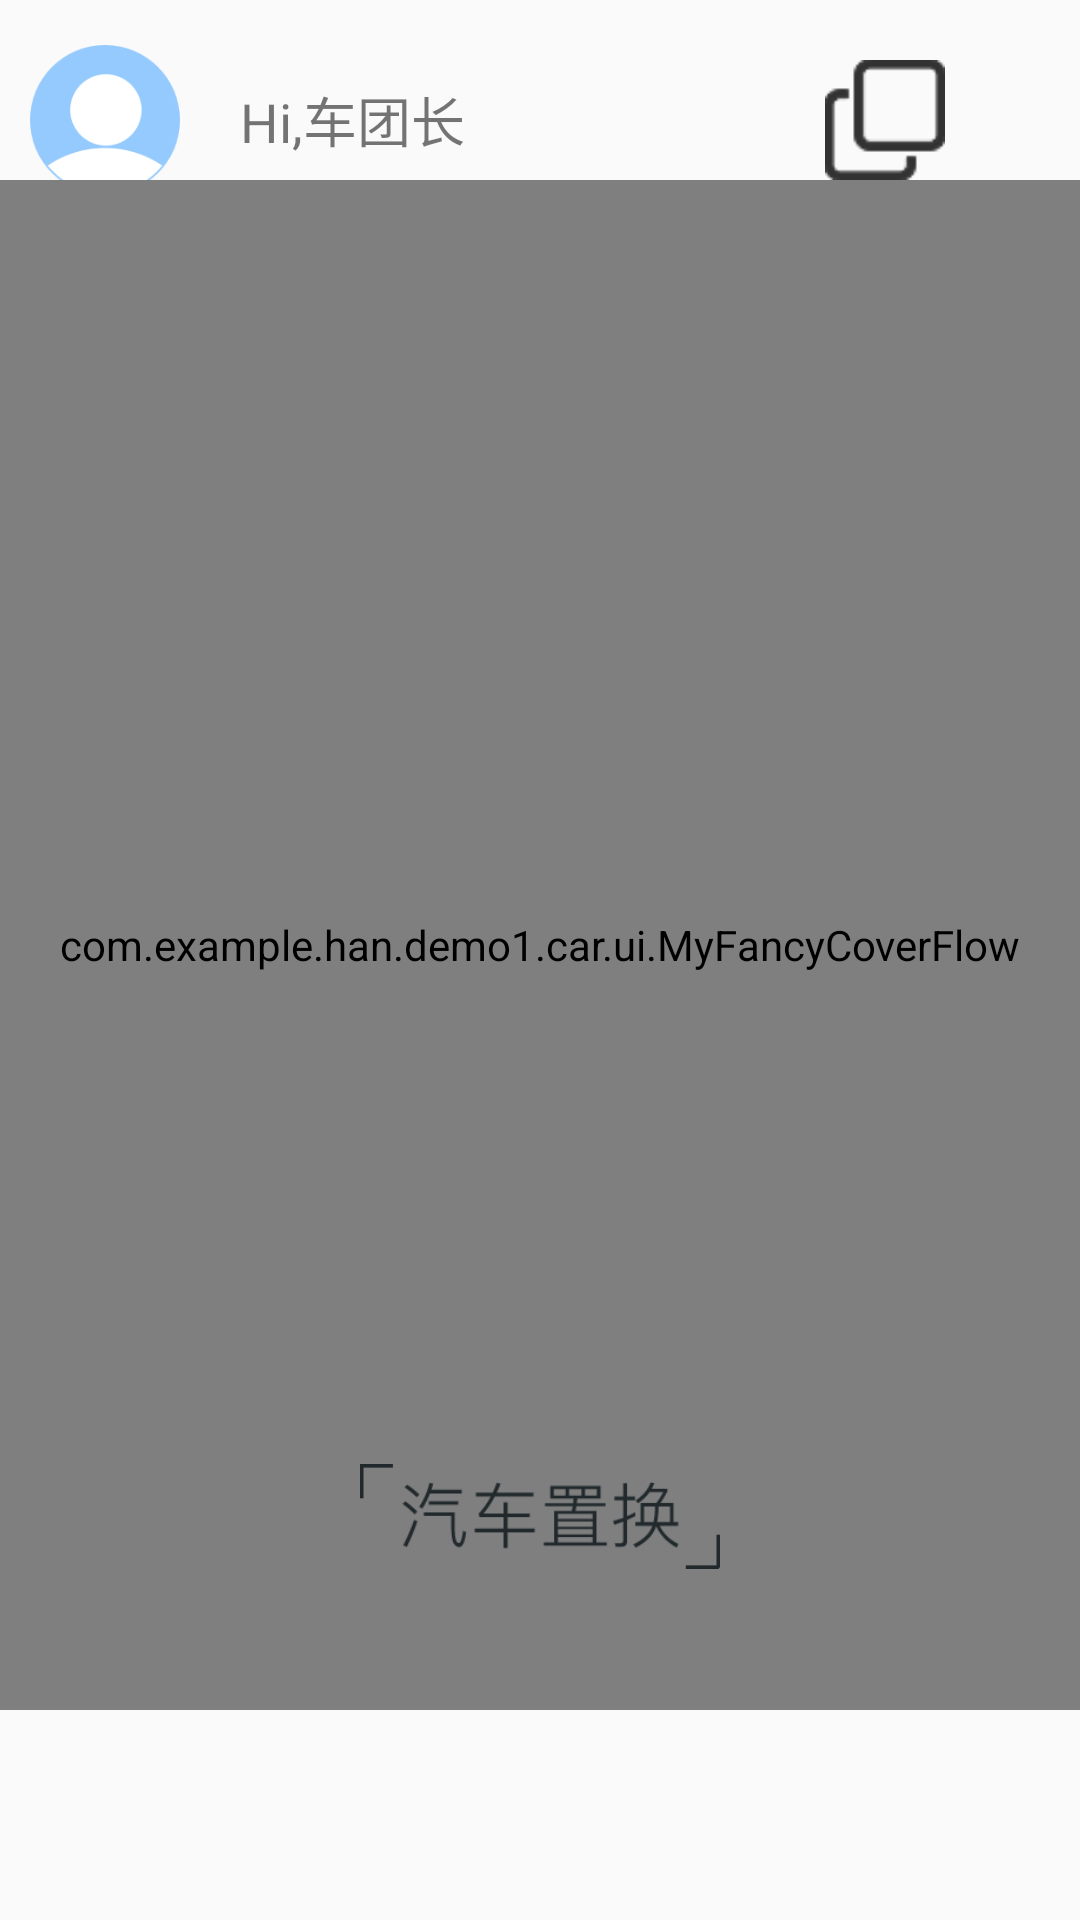

Point at icon controls on the screen. Image size 1080x1920, points as (x=x, y=y).
head portrait: (x=105, y=120)
